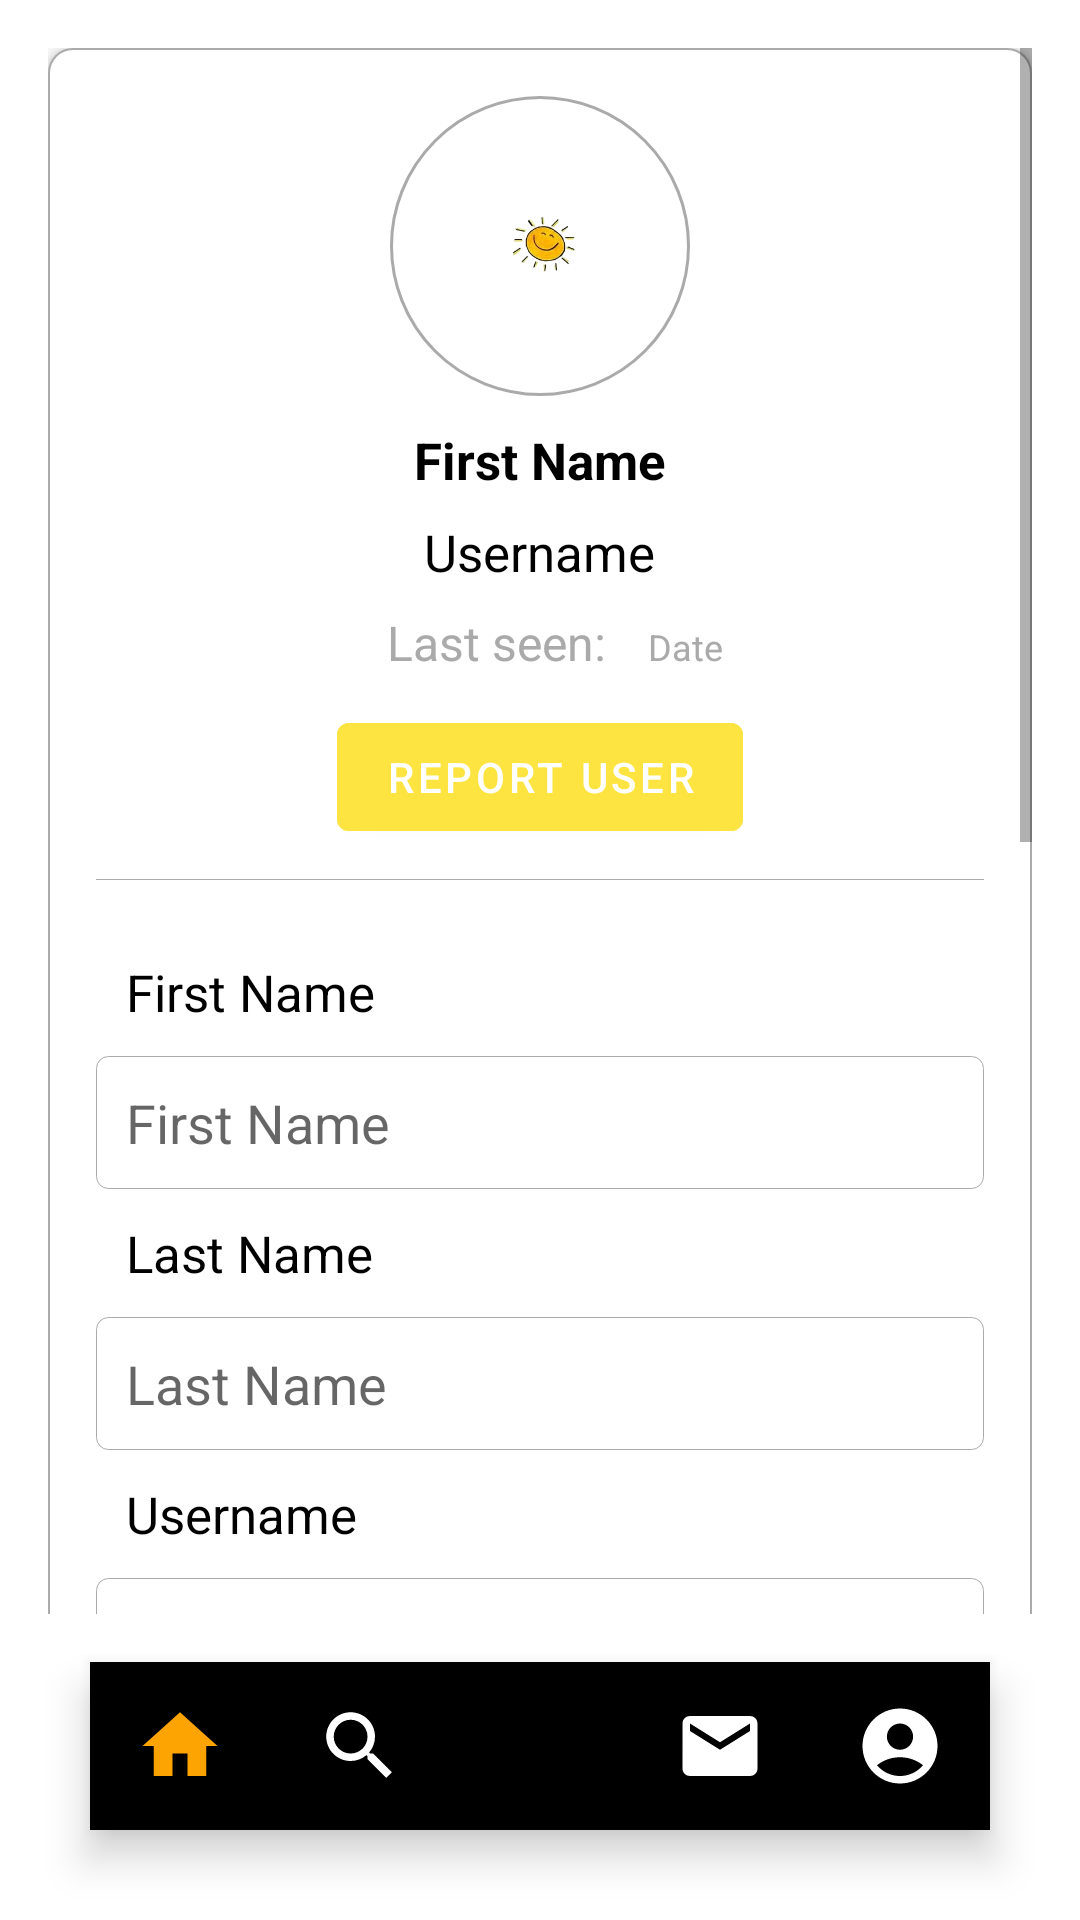

Where to tap for icons on this 1080w x 1920h app screen, as point (x, y):
smiley circle: point (540, 246)
